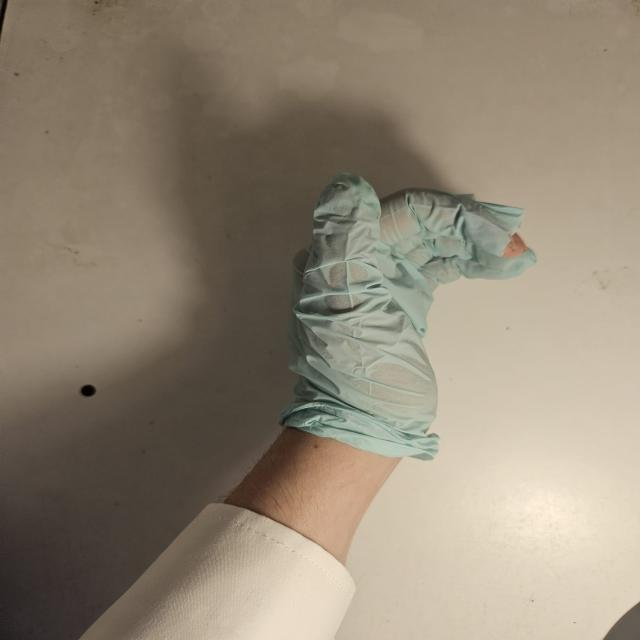gloves_damaged: (283, 170, 543, 466)
